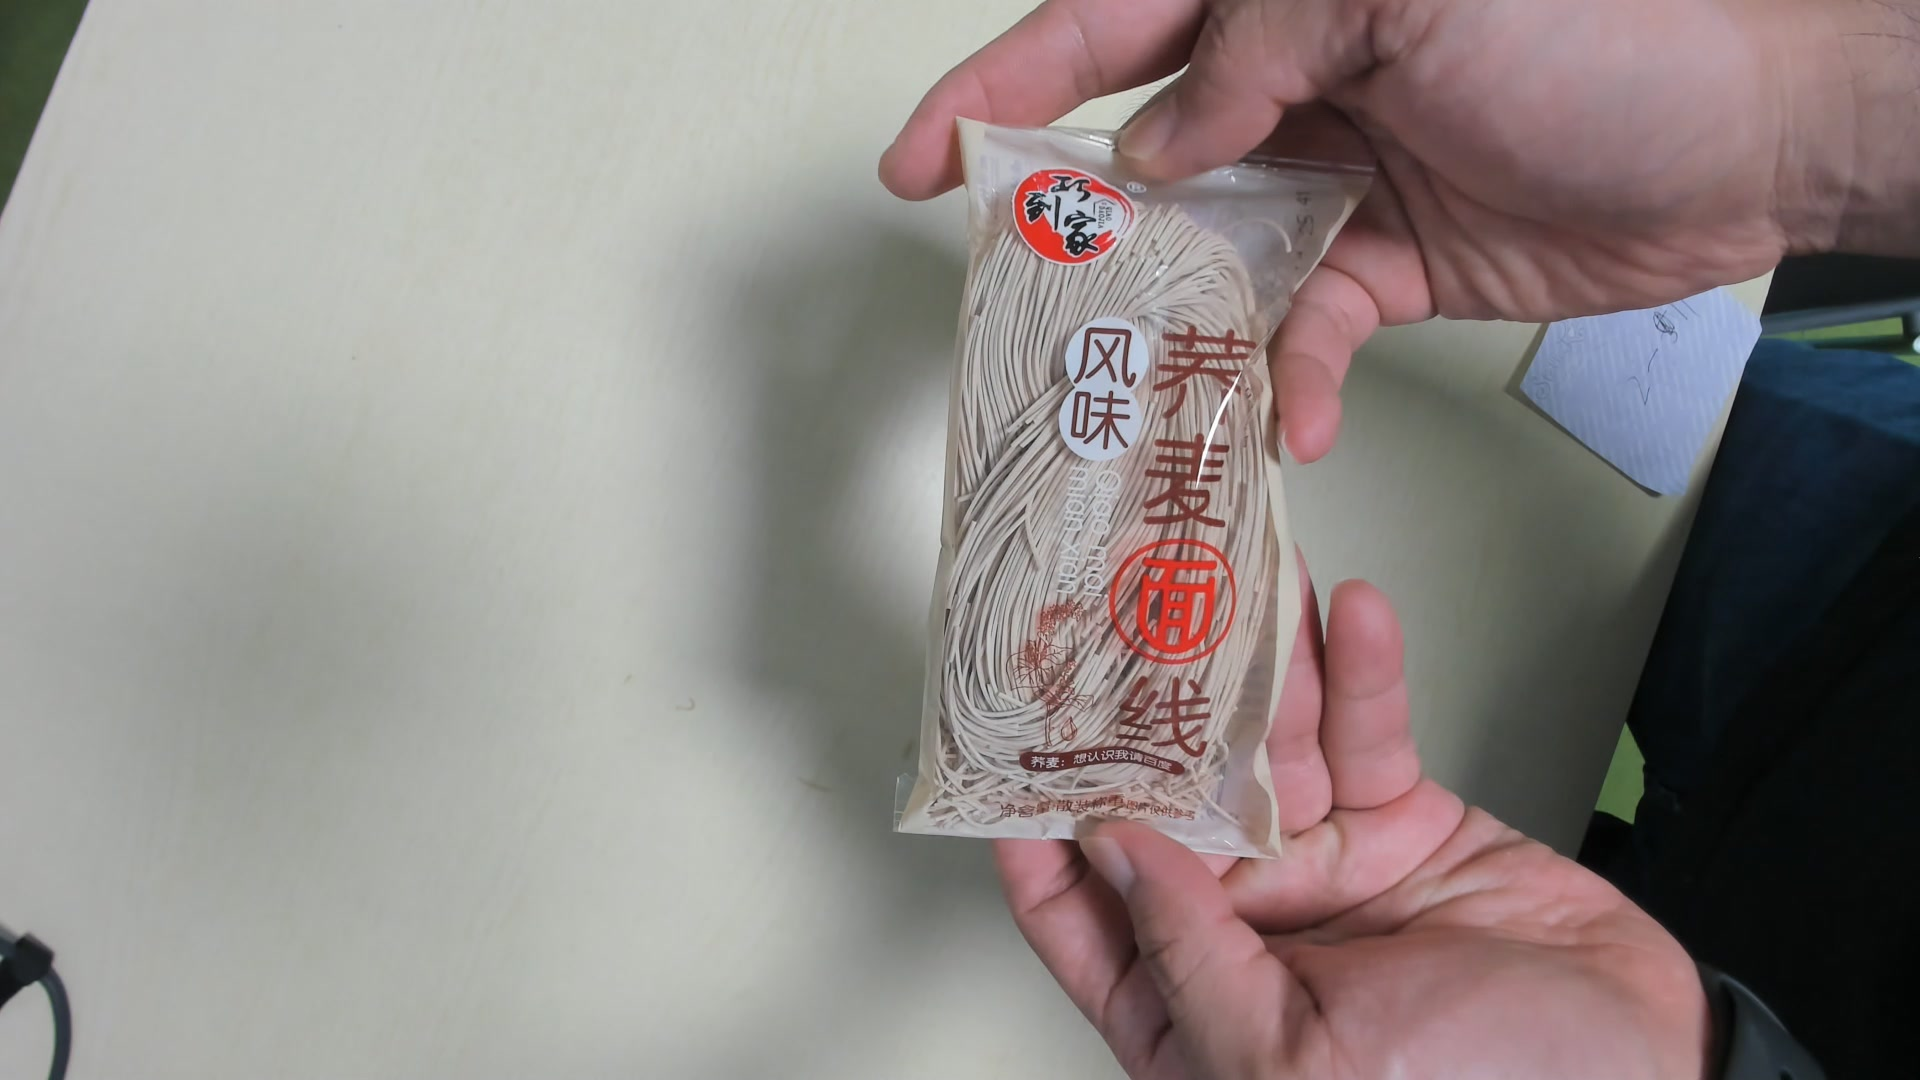BeeHoonVermicelli_0-99g_NonHalal_NonHealthy: (897, 156, 1329, 855)
